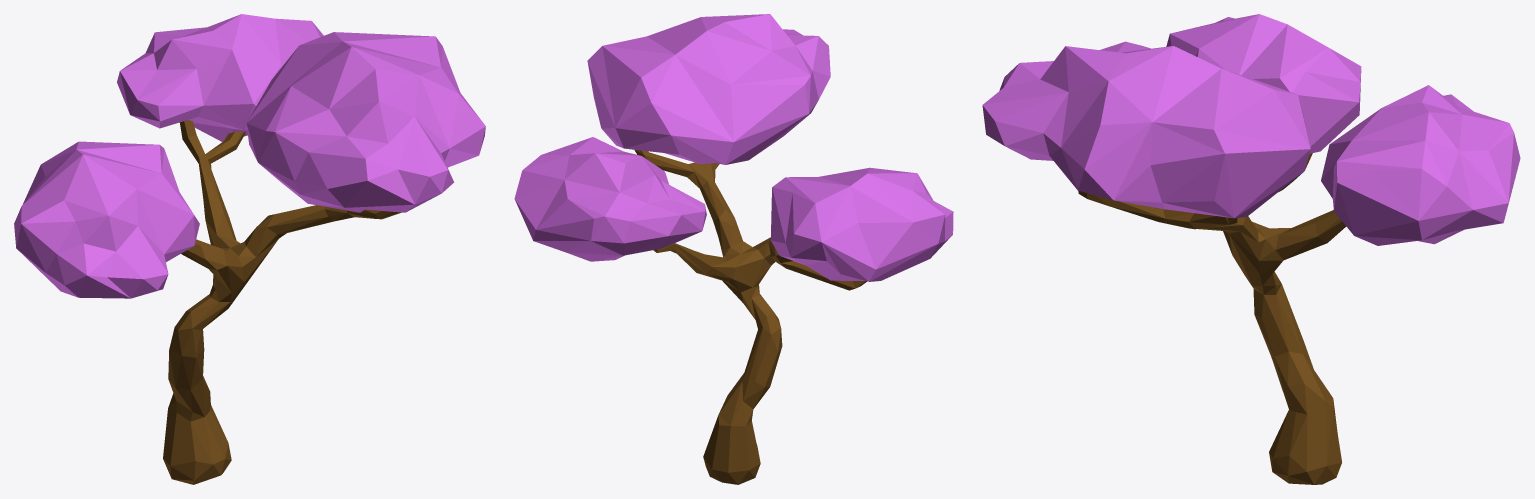
The model's file is arbresV2.fbx.
3 renders of one model, left to right at view 1: azimuth 30°, elevation 25°; view 2: azimuth 150°, elevation 25°; view 3: azimuth 270°, elevation 25°, orthographic. The views are drawn at different scales.
Parts seen in each view (by area): view 1: Sphere, Cube.019; view 2: Sphere, Cube.019; view 3: Sphere, Cube.019.
Part boxes in pixels (x1=…): Sphere: x1=14, y1=14, x2=485, y2=298; Cube.019: x1=163, y1=120, x2=400, y2=484; Sphere: x1=514, y1=14, x2=953, y2=281; Cube.019: x1=634, y1=149, x2=866, y2=484; Sphere: x1=982, y1=14, x2=1520, y2=245; Cube.019: x1=1078, y1=153, x2=1345, y2=484.
Size of the model in its own units: 347 by 359 by 362.
